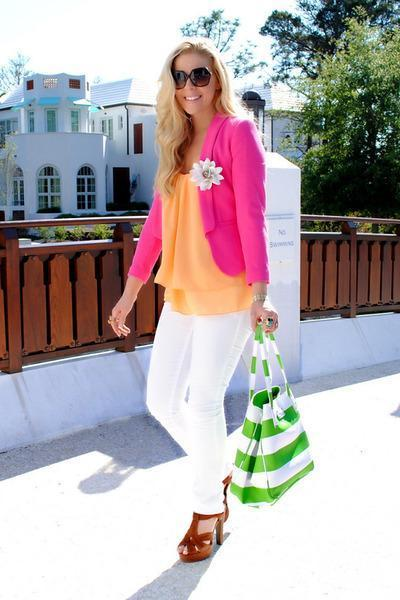bag: (224, 357, 313, 503)
jacket: (127, 113, 268, 285)
pants: (135, 302, 251, 513)
shirt: (154, 180, 251, 315)
shoe: (180, 504, 229, 562)
sunglass: (170, 60, 221, 98)
